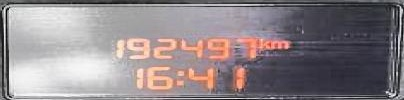1: (233, 64, 247, 91), (111, 36, 125, 58), (133, 65, 144, 88)
2: (151, 35, 176, 60)
4: (187, 64, 216, 88), (176, 37, 202, 58)
6: (146, 65, 170, 89)
7: (235, 35, 255, 56)
9: (205, 36, 228, 59), (127, 36, 149, 58)
X: (175, 66, 183, 89), (269, 39, 286, 48), (258, 37, 269, 49)
